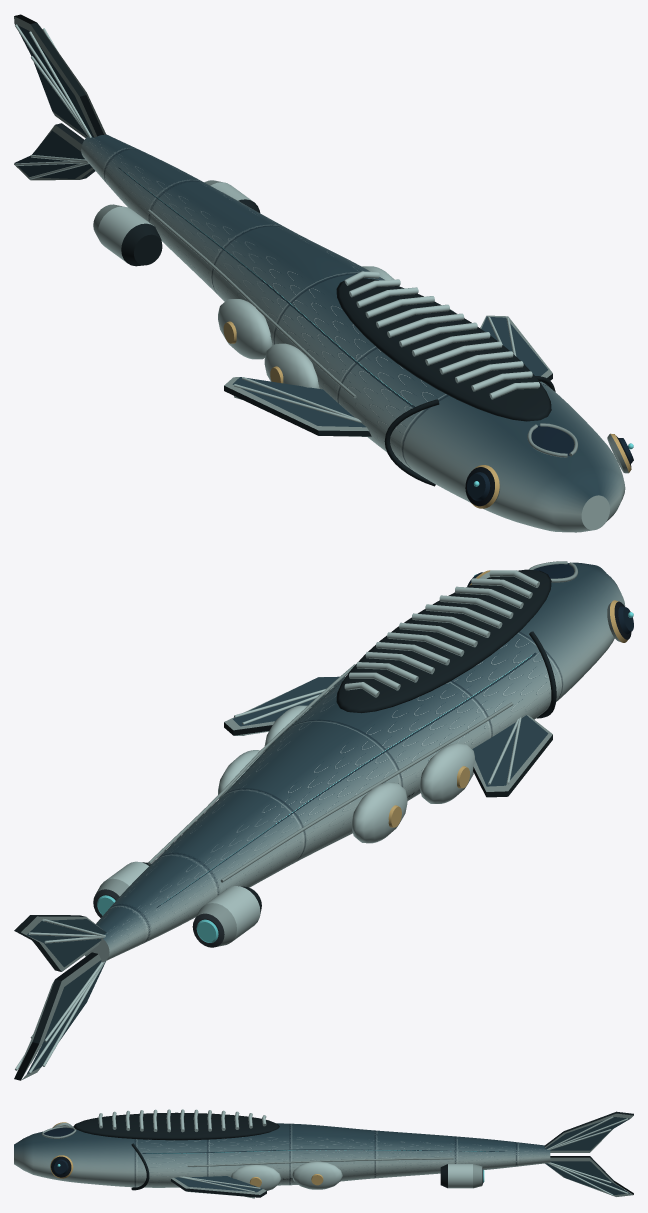
The model's file is remora.glb.
The picture shows the model from 3 angles, top to bottom: view 1: azimuth 30°, elevation 25°; view 2: azimuth 150°, elevation 25°; view 3: azimuth 270°, elevation 25°; orthographic projection. The views are drawn at different scales.
Parts seen in each view (by area): view 1: remora_hull; view 2: remora_hull; view 3: remora_hull.
Part boxes in pixels (<box>): remora_hull: <box>14,14,633,532</box>; remora_hull: <box>14,561,633,1080</box>; remora_hull: <box>14,1109,633,1198</box>.
Bounding box in the file's own units: 18.16 × 9.53 × 64.
1 material, 1 textured.
